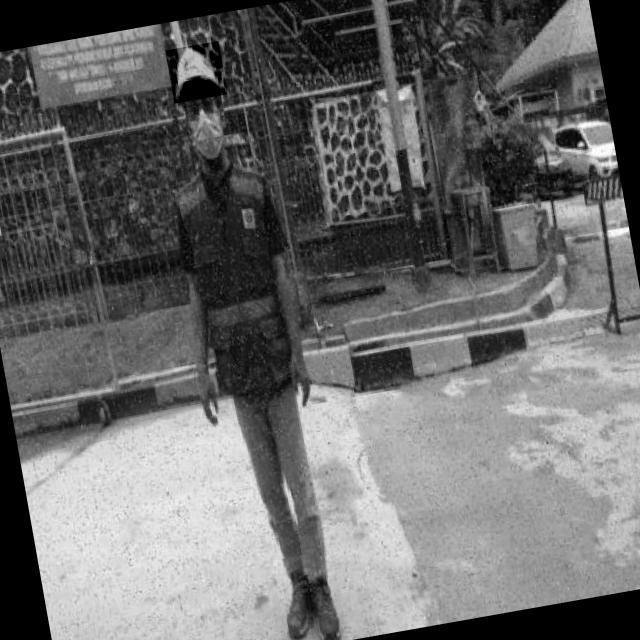Helmet: (165, 41, 228, 104)
Person: (143, 29, 375, 640)
Safety Boot: (272, 554, 321, 640), (302, 569, 348, 640)
bare-arms: (275, 339, 323, 415), (188, 359, 229, 436)
no-vest: (168, 159, 329, 402)
